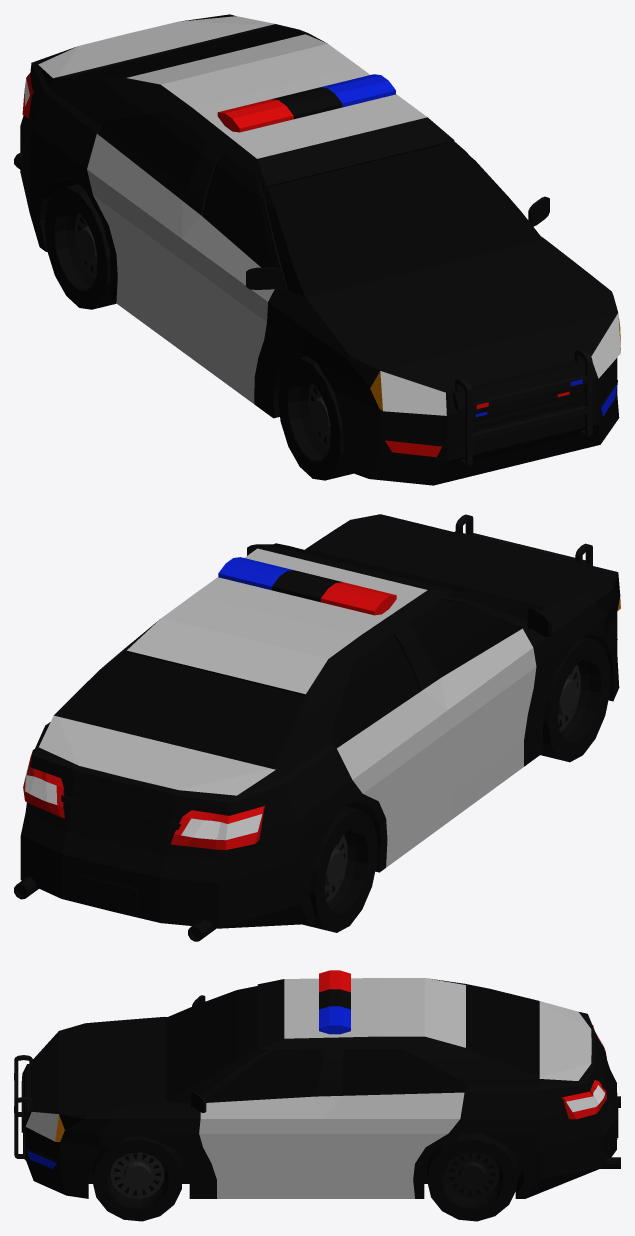
The model's file is SM_policecar.FBX.
The picture shows the model from 3 angles, top to bottom: view 1: azimuth 30°, elevation 25°; view 2: azimuth 150°, elevation 25°; view 3: azimuth 270°, elevation 25°; orthographic projection. The views are drawn at different scales.
Visible parts, largest first — view 1: FordTaurus_police; view 2: FordTaurus_police; view 3: FordTaurus_police.
Boxes of the visible parts, box(x1,y1,x2,y2) form: FordTaurus_police: box(14, 14, 620, 485); FordTaurus_police: box(14, 514, 620, 941); FordTaurus_police: box(14, 970, 620, 1221).
Bounding box in the file's own units: 173 × 133 × 415.
